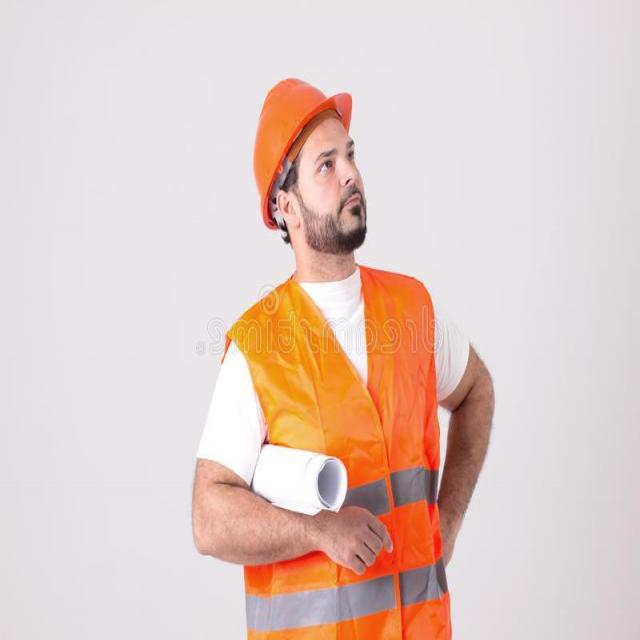Reflective-Jacket: (230, 272, 453, 638)
Safety-Helmet: (247, 71, 357, 223)
